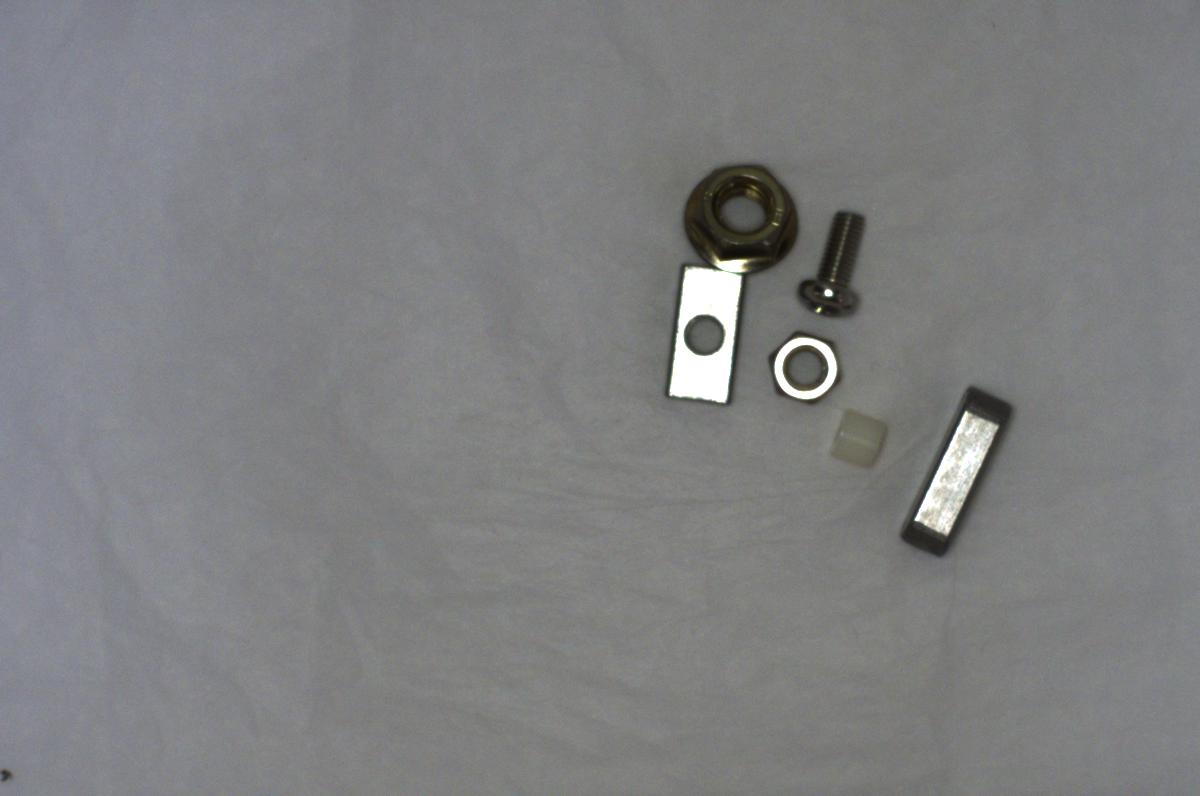Flange nut: (675, 148, 810, 278)
Hexagon nut: (765, 324, 847, 409)
Keybar: (880, 382, 1023, 559)
Plastic cushion pillar: (821, 399, 894, 476)
Rectangular nut: (656, 255, 746, 409)
Round head screw: (791, 199, 871, 324)
